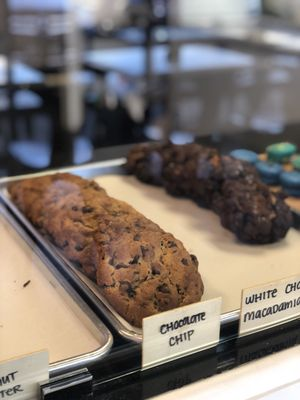curry: (0, 133, 299, 400)
sandwich: (11, 175, 205, 327)
